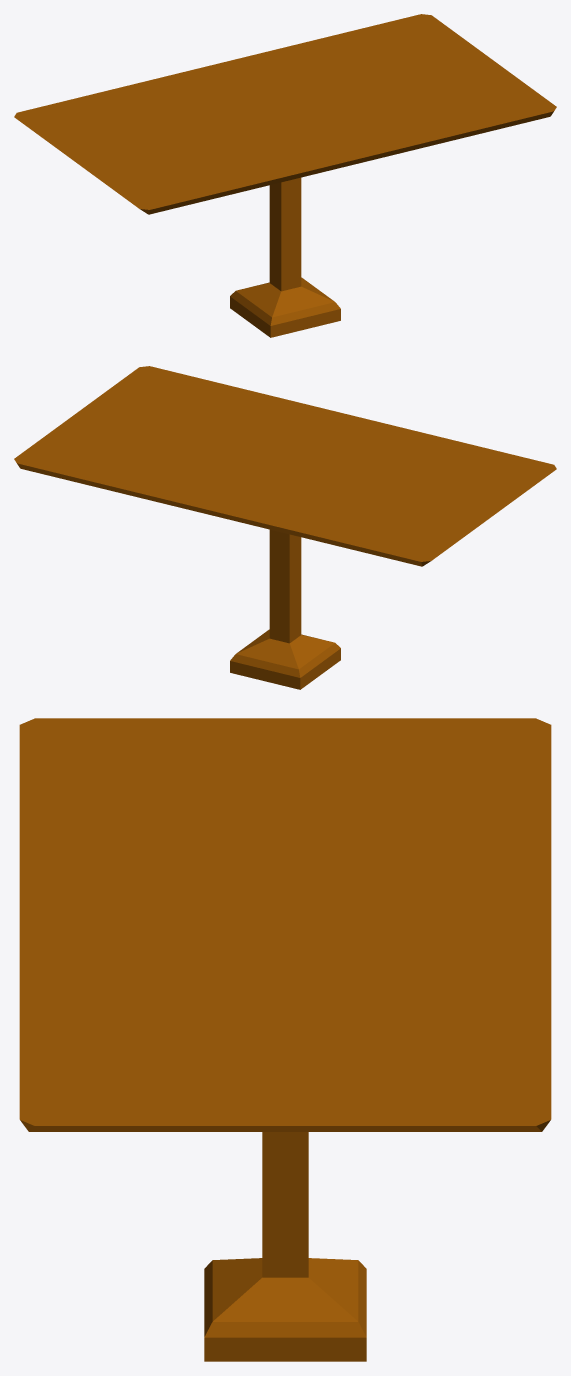
File: Table_Small.fbx
3 views of the same model, one above another, from view 1: azimuth 30°, elevation 25°; view 2: azimuth 150°, elevation 25°; view 3: azimuth 270°, elevation 25° (orthographic). The views are drawn at different scales.
Parts seen in each view (by area): view 1: Small Table; view 2: Small Table; view 3: Small Table.
Boxes of the visible parts, x1,y1,x2,y2 form: Small Table: [14, 14, 556, 337]; Small Table: [14, 366, 556, 689]; Small Table: [19, 718, 551, 1361].
Size of the model in its own units: 3.19 by 1.48 by 1.76.
